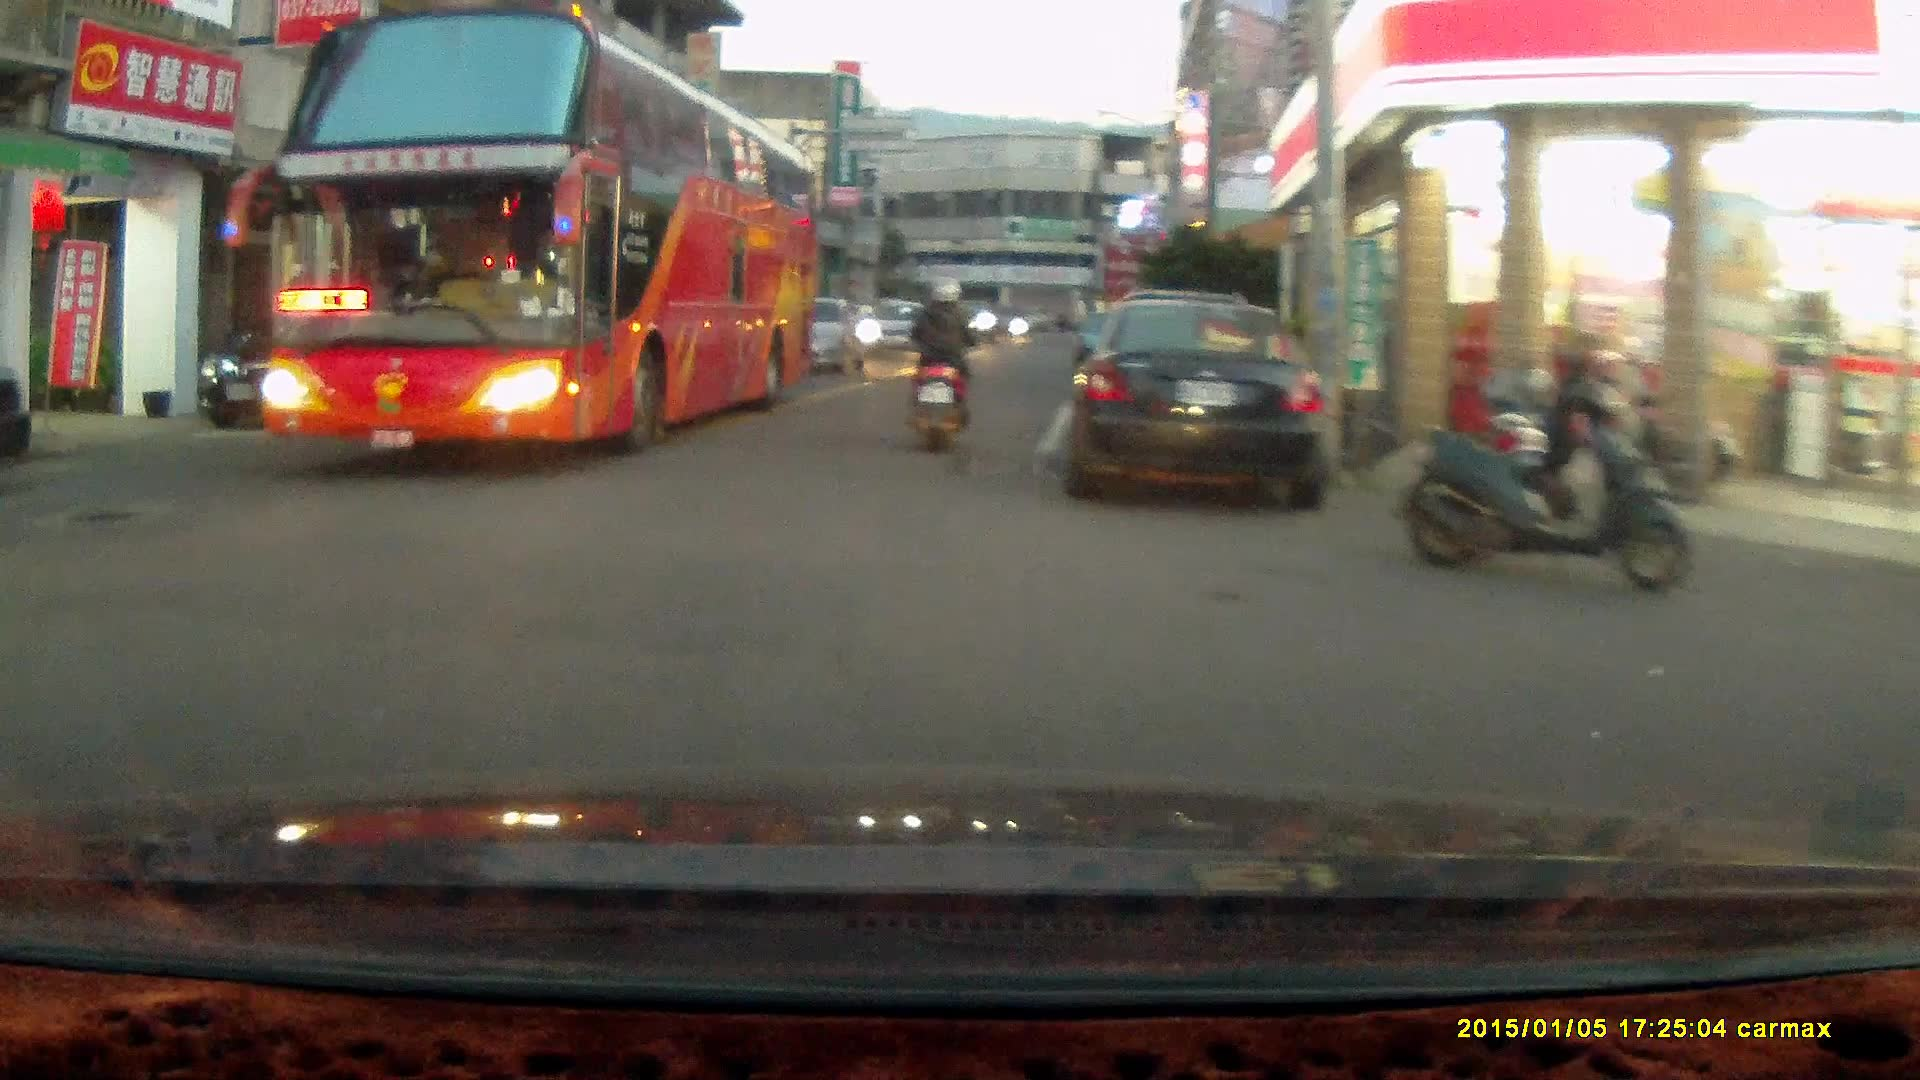rider: (897, 274, 975, 453)
vehicle: (248, 10, 824, 457), (1049, 290, 1334, 506), (809, 297, 867, 379)
